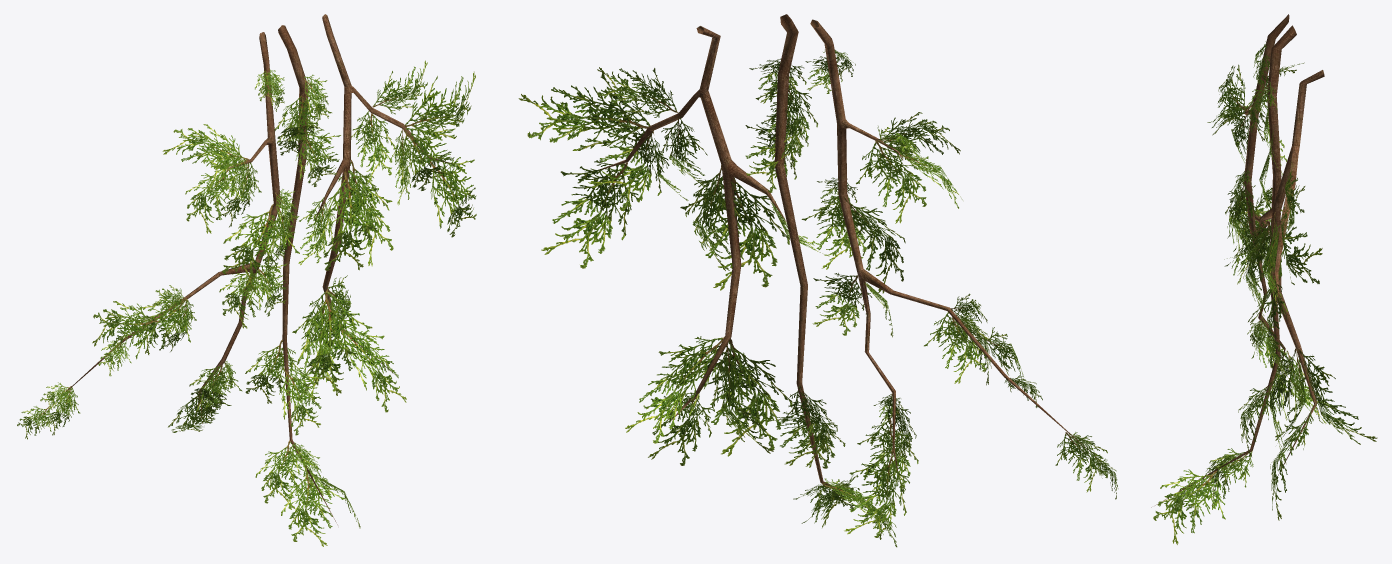
The model's file is Model_HangingPlant_06.fbx.
The picture shows the model from 3 angles, left to right: view 1: azimuth 30°, elevation 25°; view 2: azimuth 150°, elevation 25°; view 3: azimuth 270°, elevation 25°; orthographic projection. The views are drawn at different scales.
Visible parts, largest first — view 1: Hanging_04; view 2: Hanging_04; view 3: Hanging_04.
Part boxes in pixels (x1=…): Hanging_04: x1=17, y1=14, x2=476, y2=546; Hanging_04: x1=518, y1=14, x2=1118, y2=547; Hanging_04: x1=1151, y1=14, x2=1377, y2=544.
Bounding box in the file's own units: 250 × 236 × 96.02.
